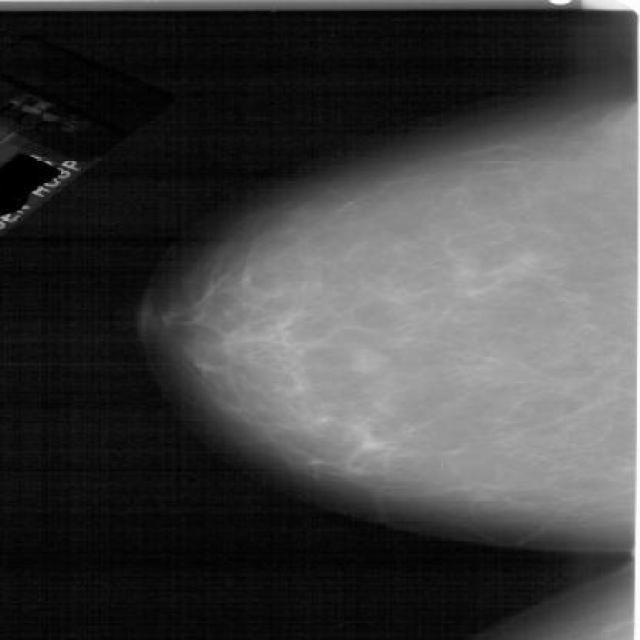tumor: (200, 266, 432, 478)
